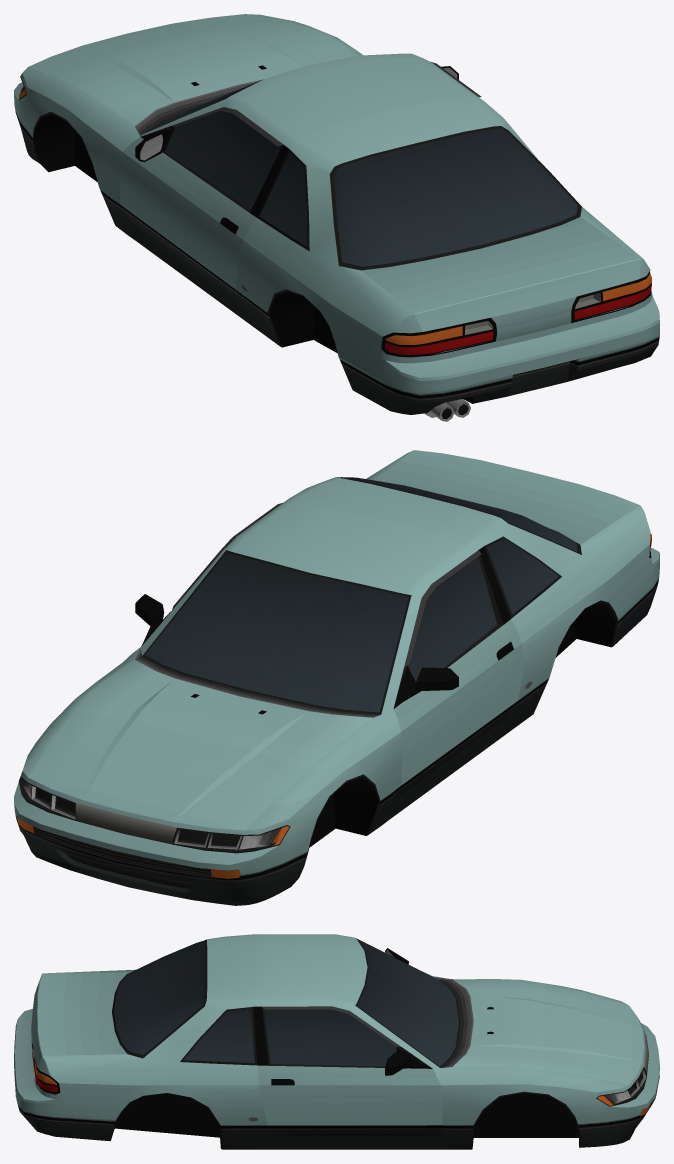
The model's file is SILVIABody.fbx.
3 views of the same model, one above another, from view 1: azimuth 30°, elevation 25°; view 2: azimuth 150°, elevation 25°; view 3: azimuth 270°, elevation 25° (orthographic). The views are drawn at different scales.
Visible parts, largest first — view 1: Body; view 2: Body; view 3: Body.
Boxes of the visible parts, <box> form: Body: <box>14,14,659,421</box>; Body: <box>14,450,659,905</box>; Body: <box>14,934,659,1149</box>.
Size of the model in its own units: 194 by 108 by 452.
